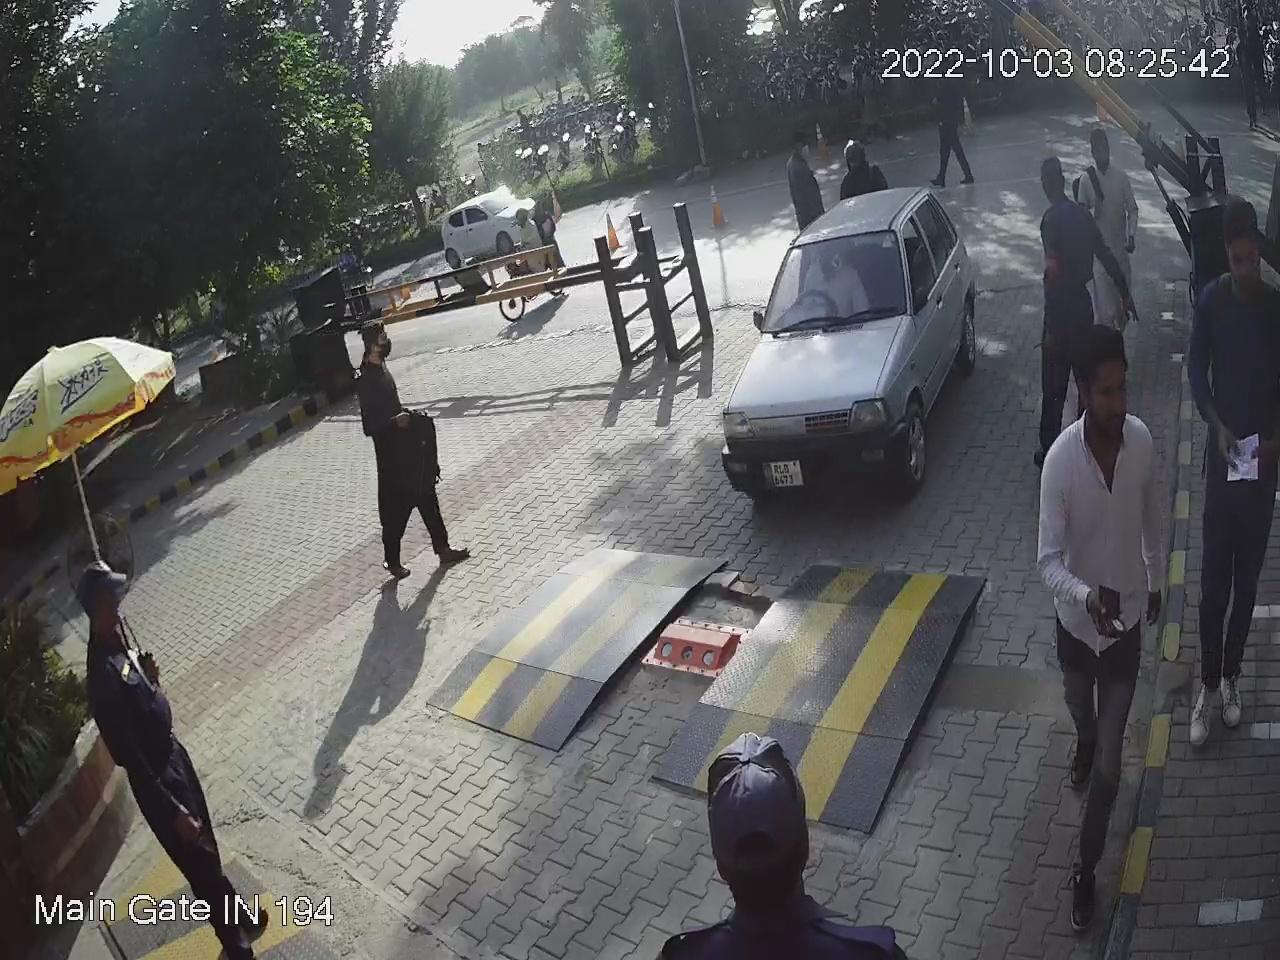windshield: (753, 220, 903, 345)
